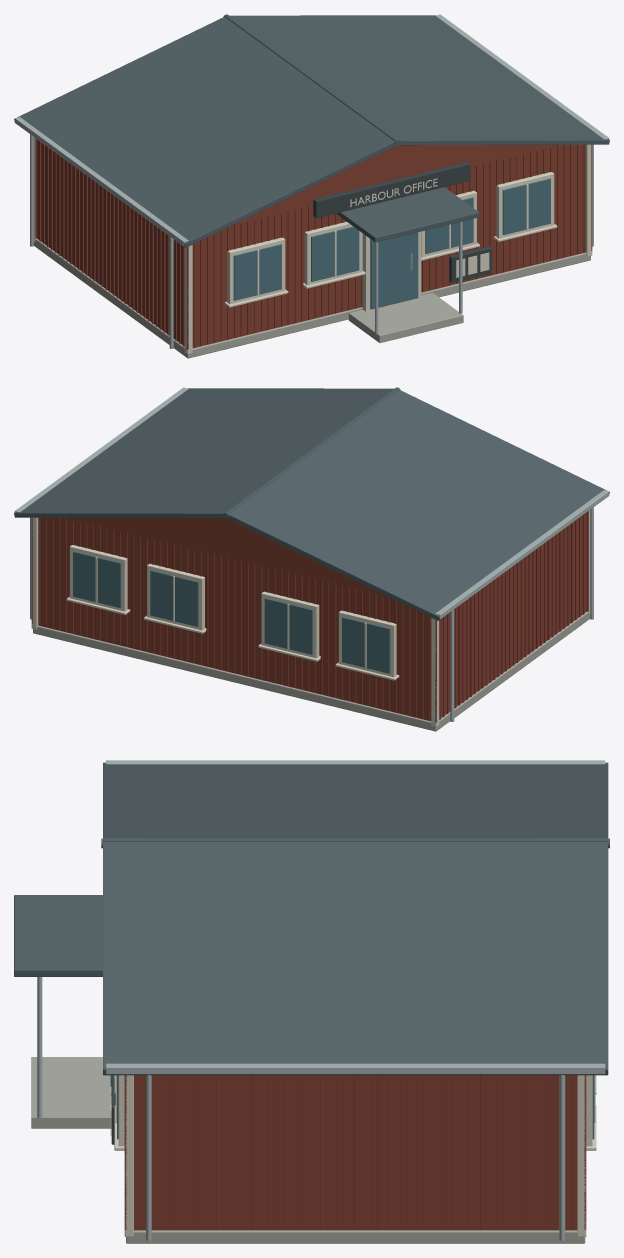
Rendered from harbour_office.glb.
3 renders of one model, top to bottom at view 1: azimuth 30°, elevation 25°; view 2: azimuth 150°, elevation 25°; view 3: azimuth 270°, elevation 25°, orthographic. The views are drawn at different scales.
Visible parts, largest first — view 1: harbour_office; view 2: harbour_office; view 3: harbour_office.
Part boxes in pixels (bbox=[...]): harbour_office: bbox=[14, 14, 609, 358]; harbour_office: bbox=[14, 387, 609, 731]; harbour_office: bbox=[14, 760, 609, 1243].
Bounding box in the file's own units: 12.66 × 4.99 × 10.38.
